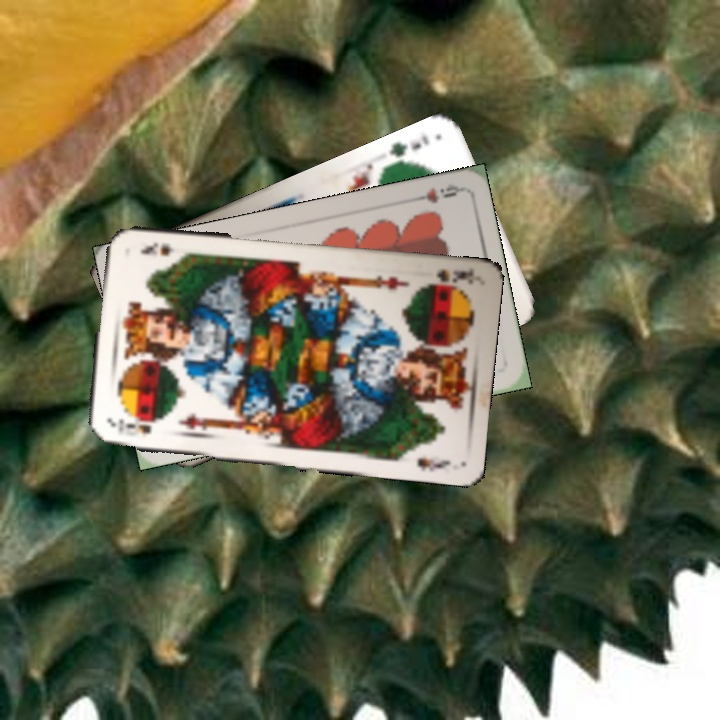GK: (385, 130, 432, 160)
H9: (404, 180, 463, 206)
SK: (423, 264, 477, 290), (111, 416, 153, 437)
